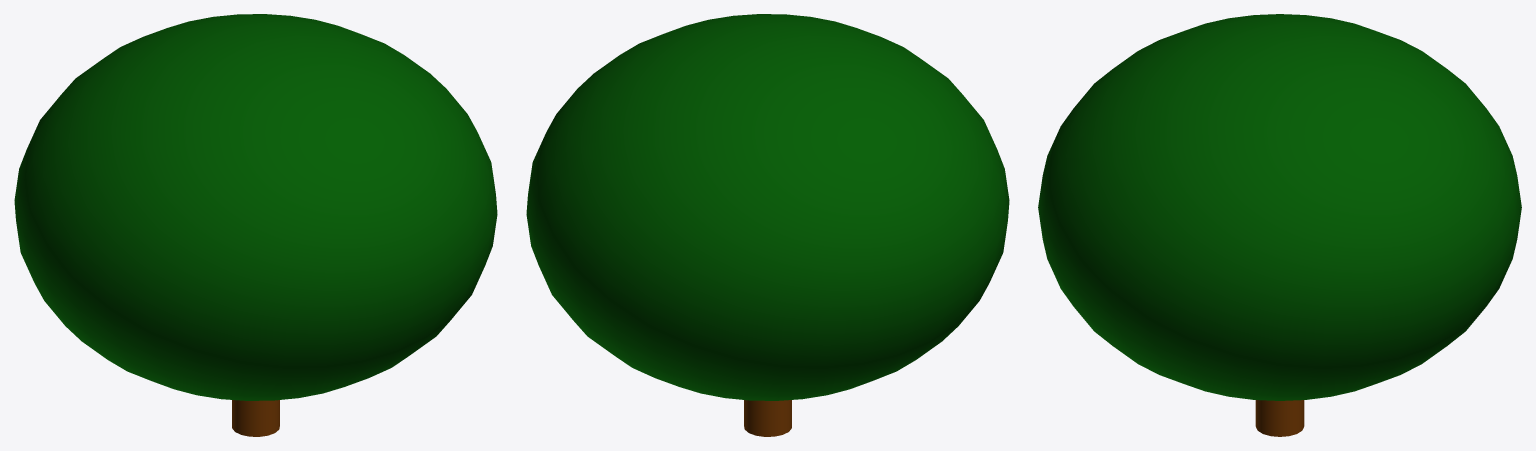
Rendered from bush.dae.
3 views of the same model, side by side, from view 1: azimuth 30°, elevation 25°; view 2: azimuth 150°, elevation 25°; view 3: azimuth 270°, elevation 25° (orthographic).
Visible parts, largest first — view 1: Bush; view 2: Bush; view 3: Bush.
Boxes of the visible parts, box(x1,y1,x2,y2) form: Bush: box(14, 14, 497, 436); Bush: box(526, 14, 1009, 436); Bush: box(1038, 14, 1521, 436).
Bounding box in the file's own units: 2 × 2 × 1.75.
